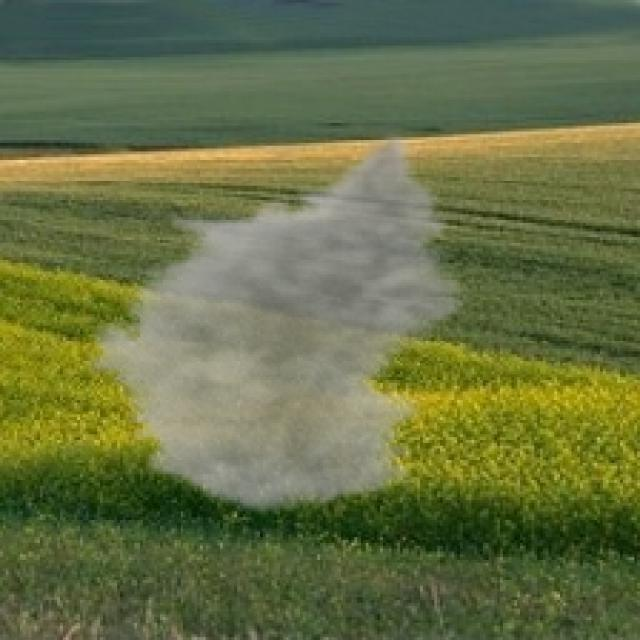smoke: (77, 129, 477, 517)
